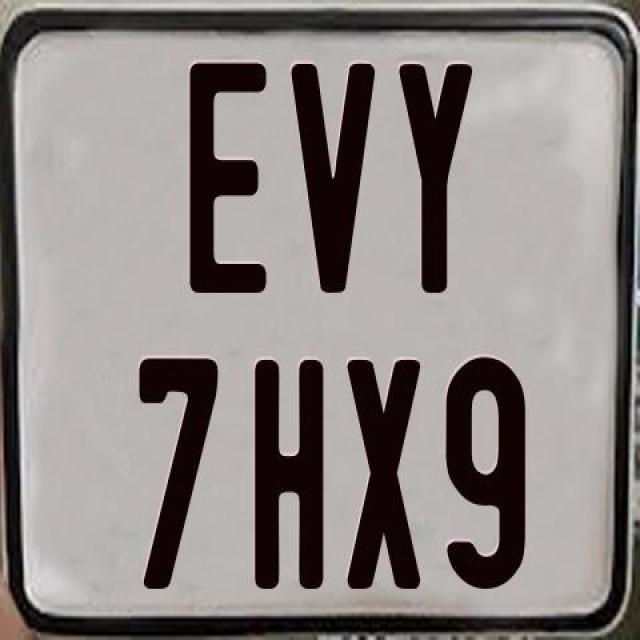7: (134, 358, 218, 597)
9: (442, 356, 528, 598)
E: (185, 58, 263, 294)
H: (253, 357, 323, 589)
V: (286, 59, 378, 294)
X: (345, 356, 423, 594)
Y: (397, 60, 472, 298)
